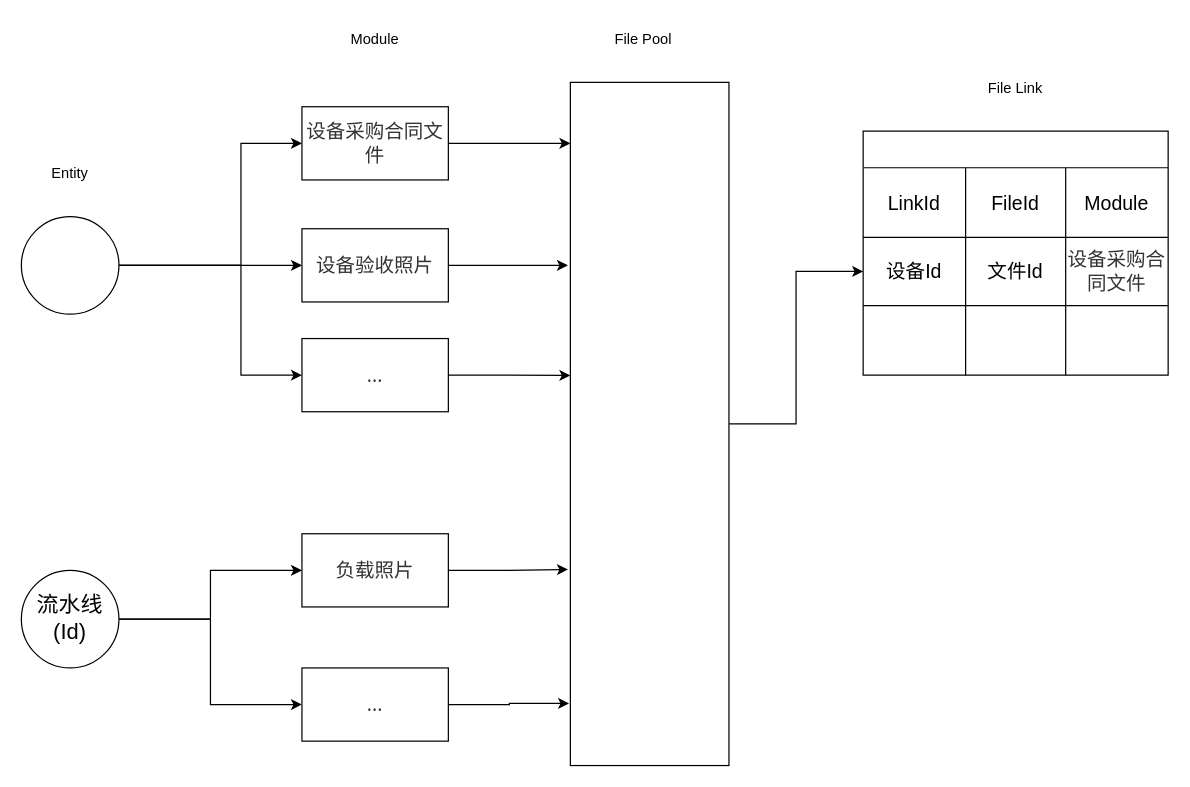
This 1190x787 diagram has some shape labels left out. Each missing label, with the box of its shape:
Table: (862, 130, 1168, 375)
文件基本信息 设备照片.png ....: (569, 81, 729, 766)
设备(Id): (20, 215, 119, 314)
